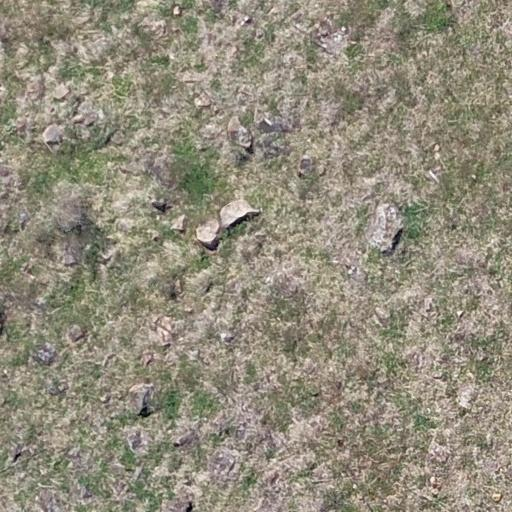stone: (360, 203, 408, 255), (218, 194, 268, 230), (126, 381, 158, 418), (226, 114, 253, 154), (148, 314, 176, 349), (254, 113, 292, 135), (191, 220, 222, 244), (42, 124, 66, 154), (30, 342, 58, 366), (454, 382, 478, 409), (126, 429, 148, 455), (173, 429, 201, 449), (296, 155, 318, 180), (66, 324, 87, 344), (346, 262, 367, 282), (168, 216, 188, 236), (52, 82, 72, 102), (98, 246, 118, 266), (148, 19, 169, 38), (194, 90, 214, 109), (180, 71, 205, 85), (108, 129, 126, 147), (80, 111, 100, 127), (150, 199, 172, 213), (20, 263, 38, 280), (101, 351, 117, 369), (216, 329, 236, 343), (140, 350, 155, 368), (291, 20, 309, 34), (216, 424, 232, 438), (266, 471, 280, 487), (452, 330, 468, 344), (202, 280, 214, 296), (11, 448, 23, 464), (186, 349, 200, 362), (120, 166, 138, 176), (173, 277, 183, 295), (239, 15, 253, 27), (72, 113, 86, 125), (148, 230, 160, 243), (34, 297, 46, 309), (172, 4, 183, 17), (99, 393, 111, 404), (268, 6, 280, 17), (491, 492, 503, 502), (430, 487, 440, 497), (347, 266, 357, 276), (429, 476, 441, 484), (336, 438, 345, 448), (183, 306, 194, 314), (433, 143, 441, 153), (456, 309, 464, 319), (310, 390, 320, 398), (264, 276, 272, 284), (340, 26, 348, 34), (2, 368, 8, 376), (352, 484, 358, 490)
